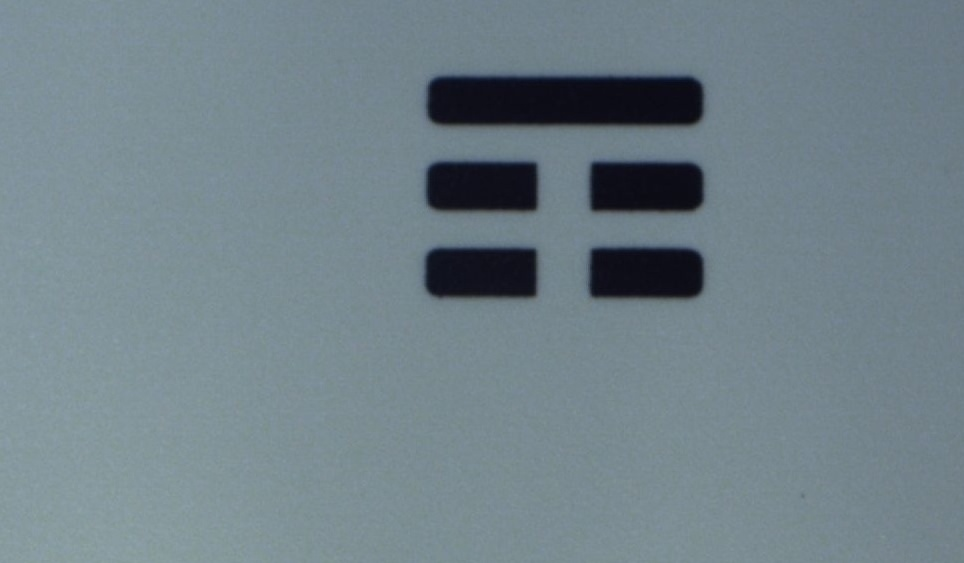BV_F6600PTIM: (402, 63, 743, 316)
